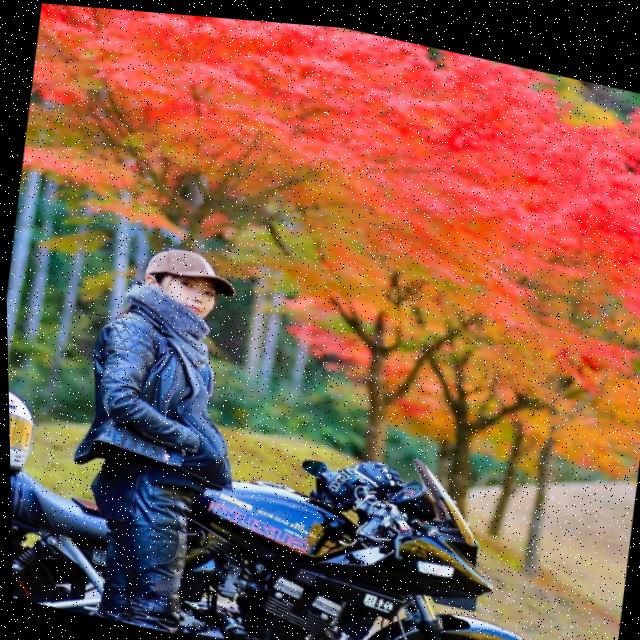illegal_helmet: (132, 233, 246, 329)
